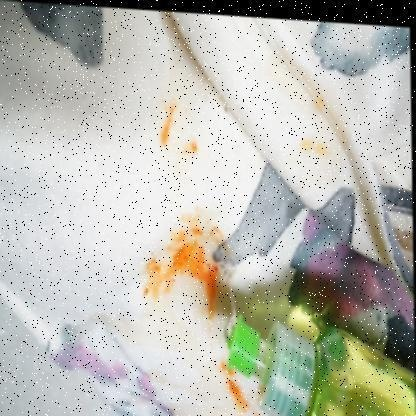kimchi: (137, 218, 225, 294), (152, 92, 183, 149), (226, 378, 249, 411), (197, 288, 220, 317), (304, 139, 330, 160), (185, 136, 202, 154), (218, 363, 228, 375), (318, 96, 326, 110)
